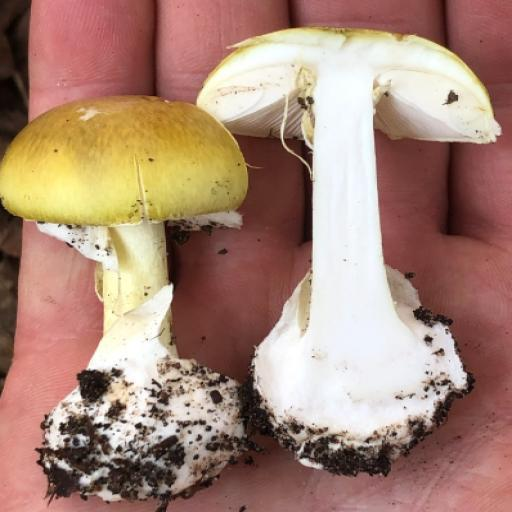mushroom: (0, 88, 251, 234), (0, 0, 1, 1)
